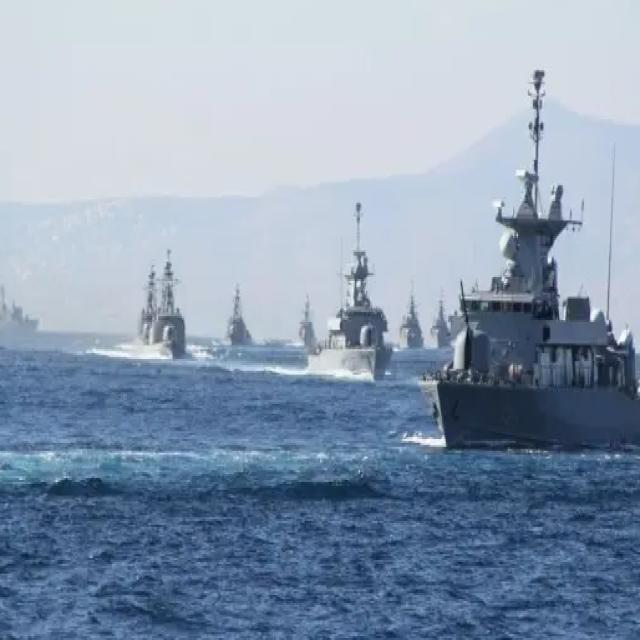navalvessels: (421, 68, 640, 460), (300, 191, 399, 381), (148, 252, 189, 351), (223, 266, 264, 348), (289, 290, 333, 364)
